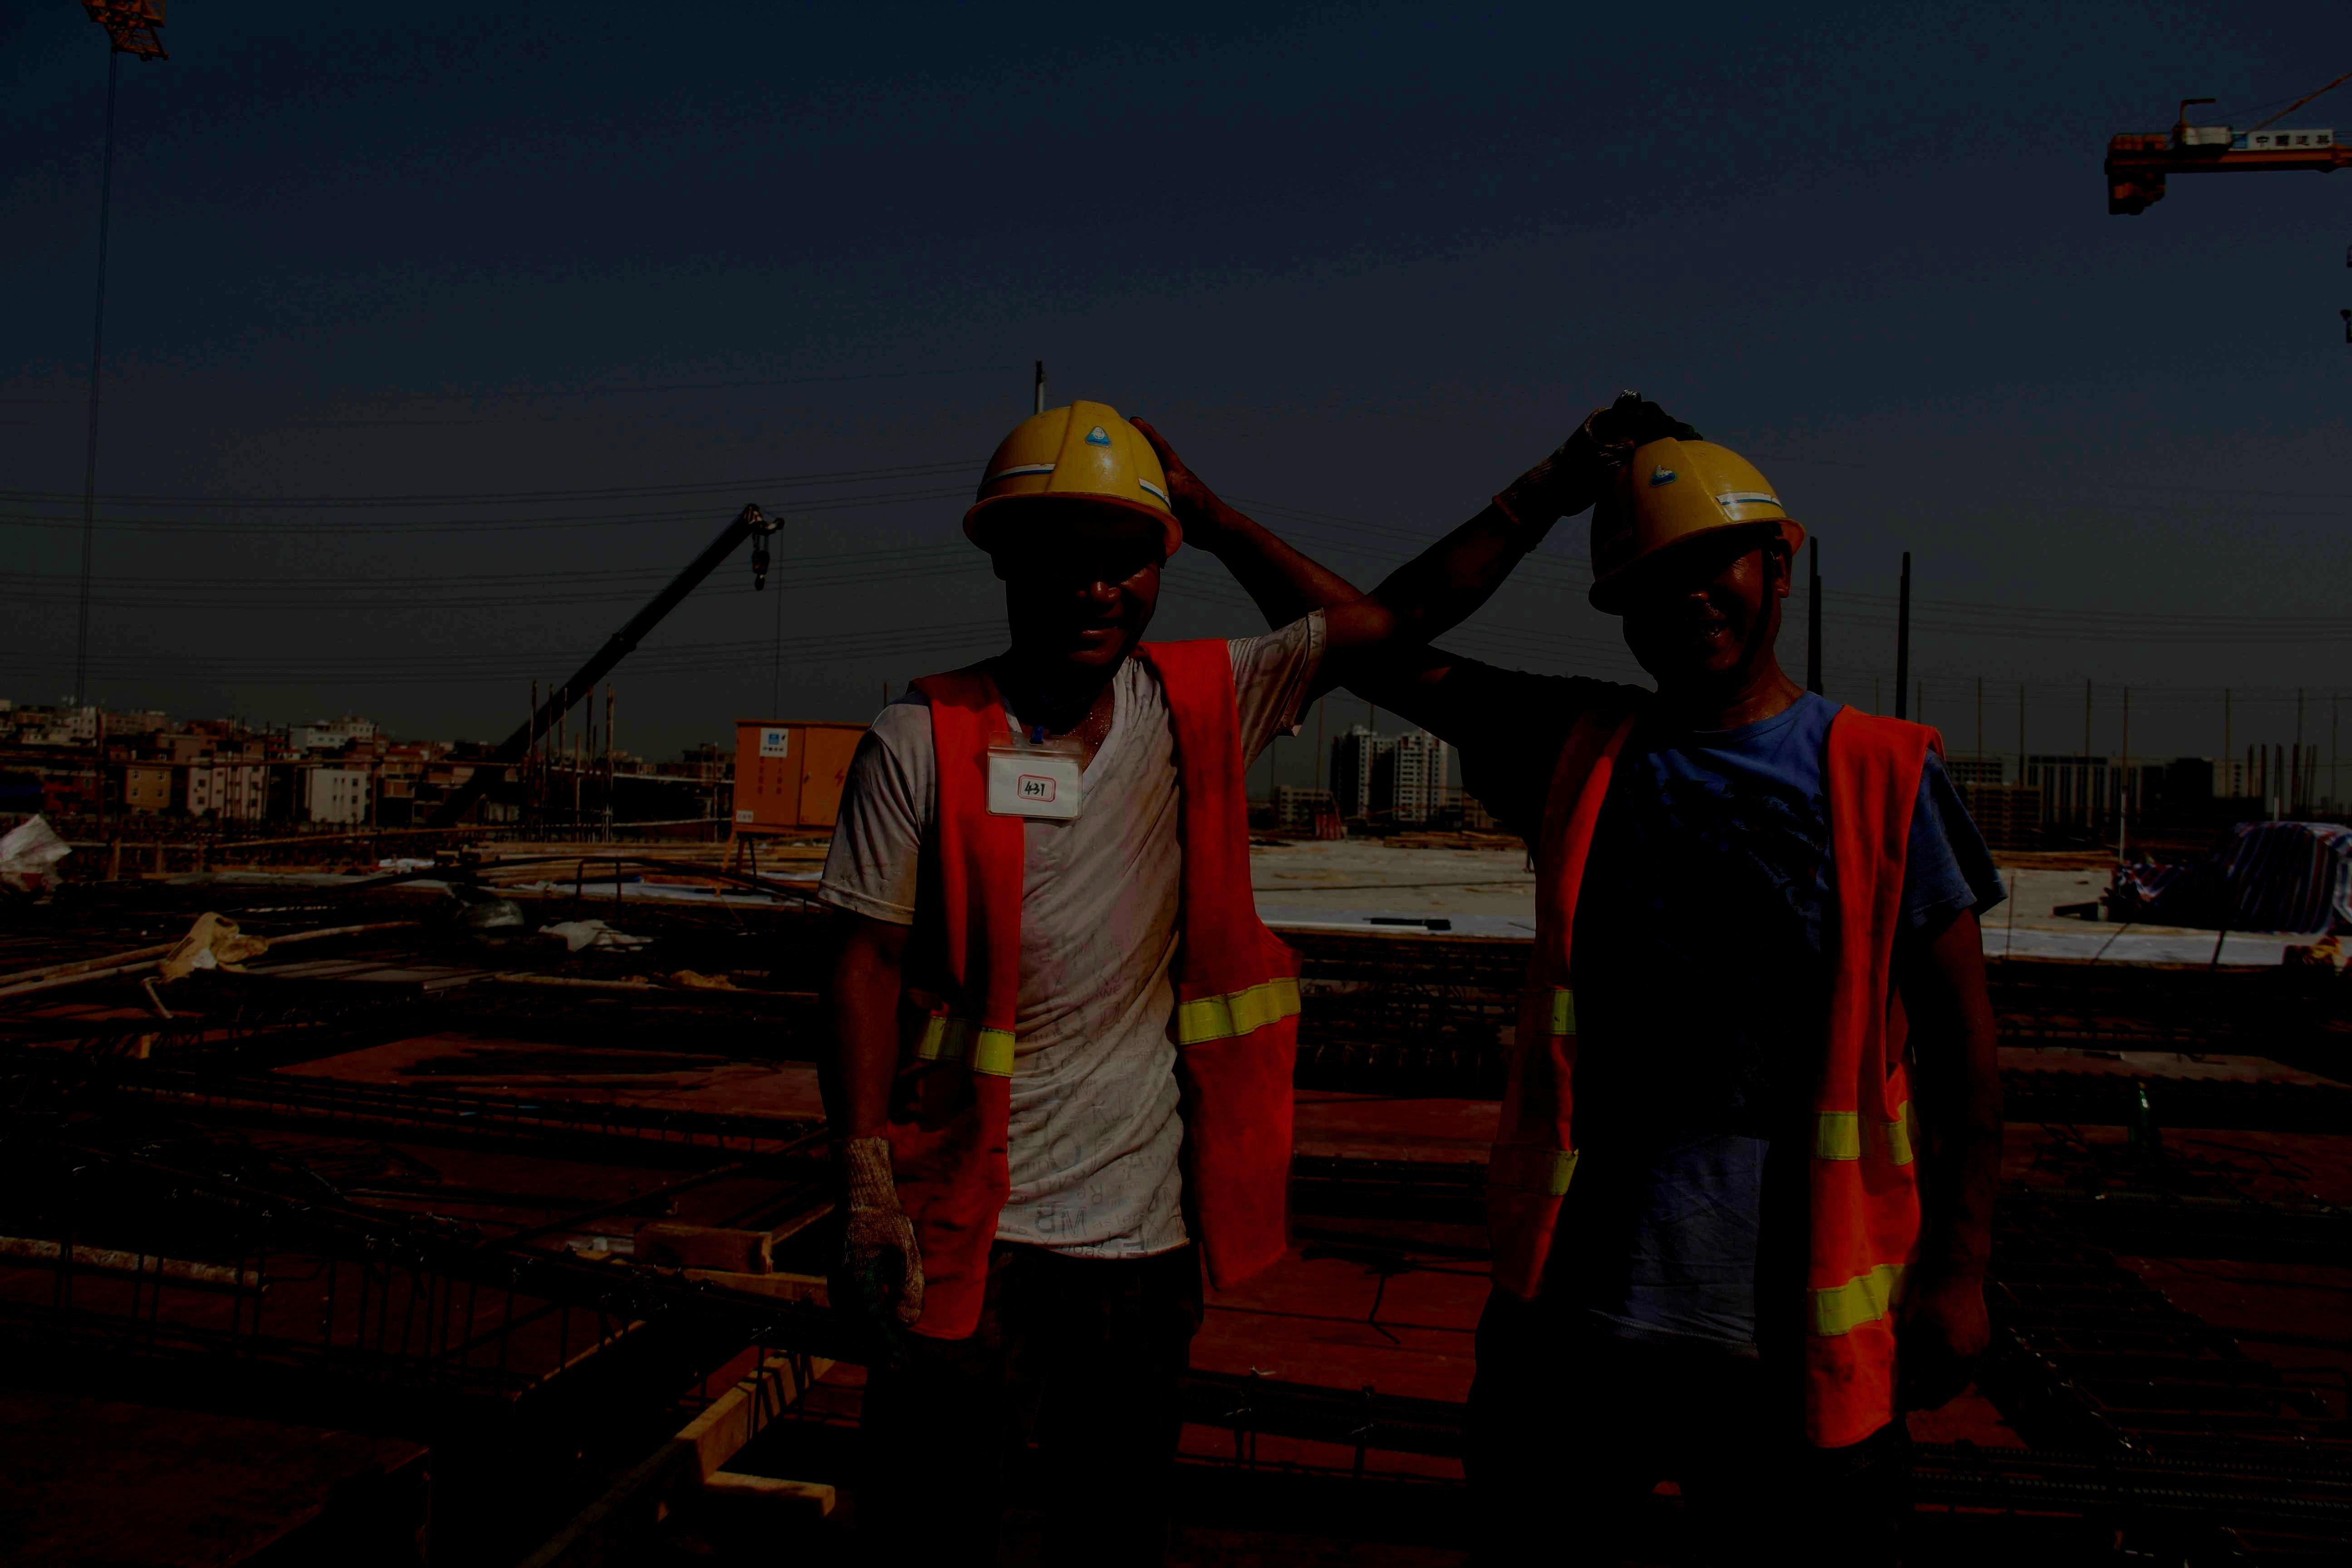helmet: (963, 399, 1183, 686), (1589, 436, 1806, 686)
